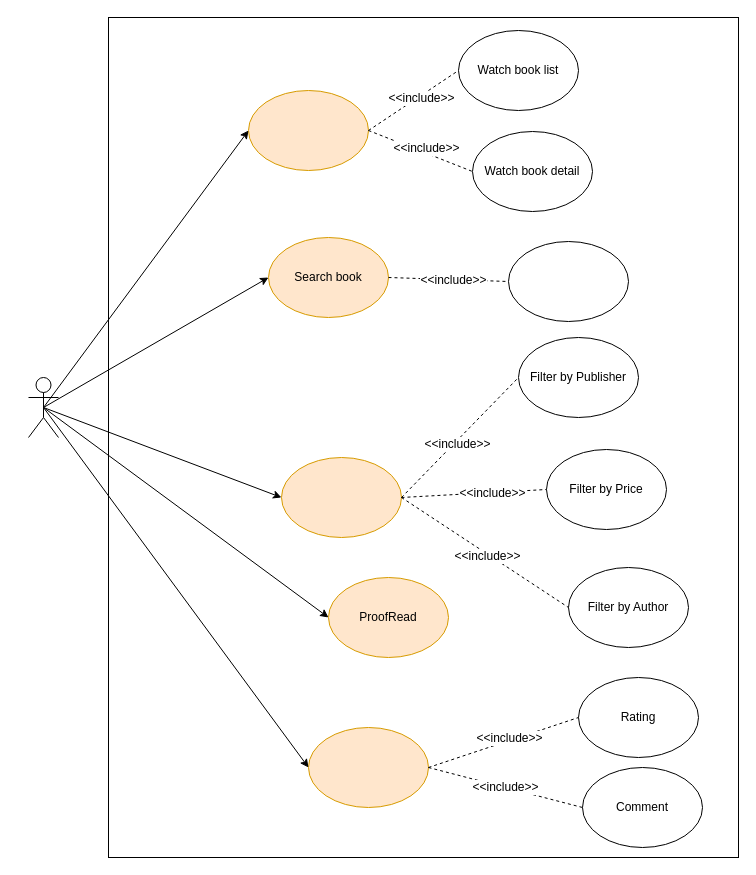
The diagram is 756 pixels wide and 875 high, and some of its shapes have lost their labels. Each missing label, with the box of its shape:
Customer: (28, 376, 58, 438)
Filter book: (280, 456, 402, 538)
Remark book: (308, 726, 428, 808)
Search by Name: (508, 240, 628, 322)
Watch book: (248, 90, 368, 170)
